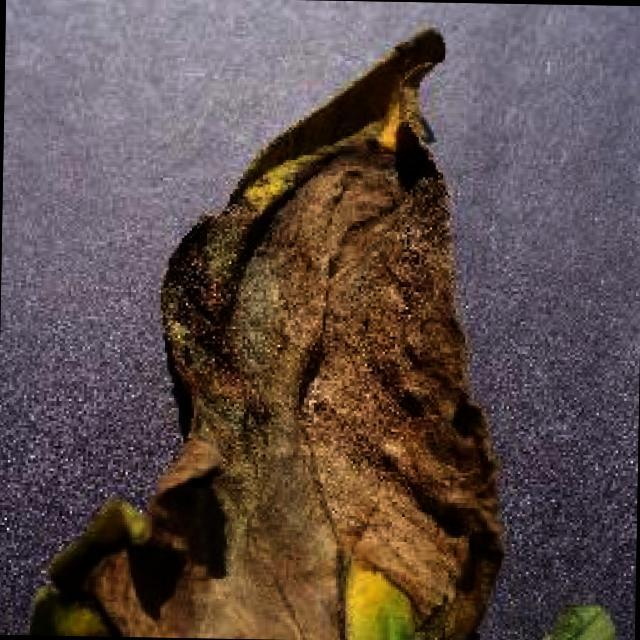Tomato late blight leaf: (19, 17, 515, 640)
